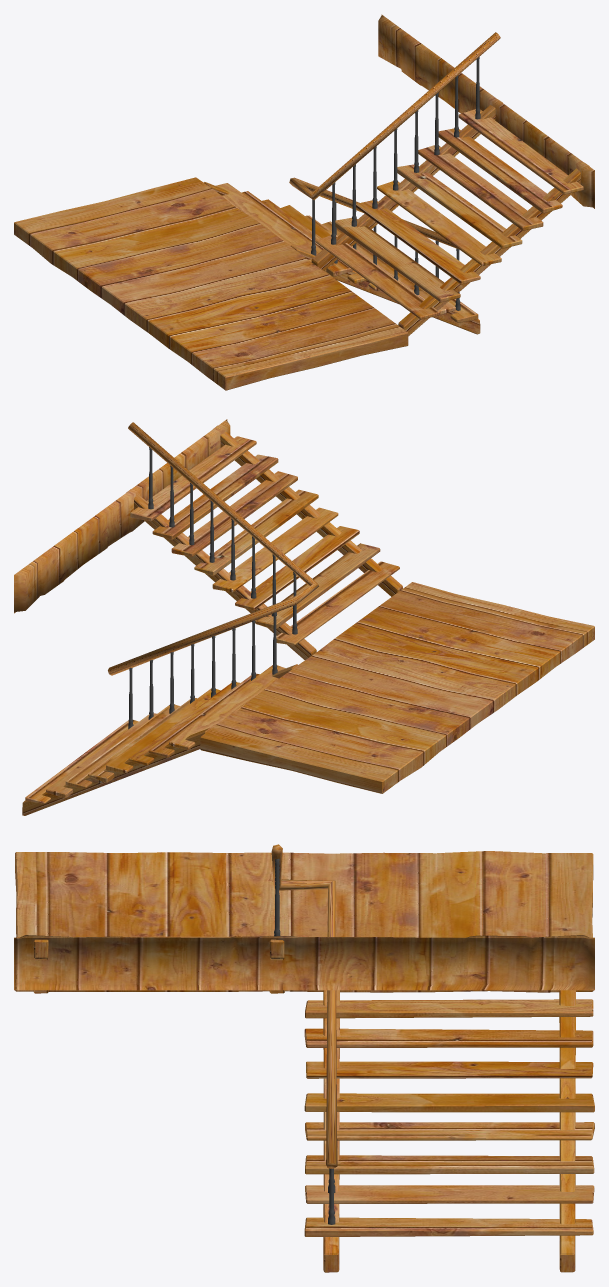
The model's file is stairs.fbx.
3 renders of one model, top to bottom at view 1: azimuth 30°, elevation 25°; view 2: azimuth 150°, elevation 25°; view 3: azimuth 270°, elevation 25°, orthographic. The views are drawn at different scales.
Visible parts, largest first — view 1: Stairs_LOD0, MiniWall_LOD0, Rails_LOD0, Supports_LOD0; view 2: Stairs_LOD0, MiniWall_LOD0, Rails_LOD0, Supports_LOD0; view 3: Stairs_LOD0, MiniWall_LOD0, Rails_LOD0, Supports_LOD0.
Boxes of the visible parts, left/top/right/bottom form: Stairs_LOD0: left=14, top=99, right=589, bottom=390; MiniWall_LOD0: left=378, top=14, right=594, bottom=208; Rails_LOD0: left=289, top=32, right=500, bottom=248; Supports_LOD0: left=311, top=57, right=480, bottom=310; Stairs_LOD0: left=22, top=425, right=594, bottom=815; MiniWall_LOD0: left=14, top=419, right=230, bottom=613; Rails_LOD0: left=108, top=422, right=318, bottom=675; Supports_LOD0: left=128, top=447, right=297, bottom=729; Stairs_LOD0: left=15, top=851, right=594, bottom=1272; MiniWall_LOD0: left=14, top=935, right=594, bottom=990; Rails_LOD0: left=271, top=844, right=337, bottom=1168; Supports_LOD0: left=274, top=858, right=335, bottom=1224.
Size of what is drawn, in the model's own units: 503 by 406 by 500.
